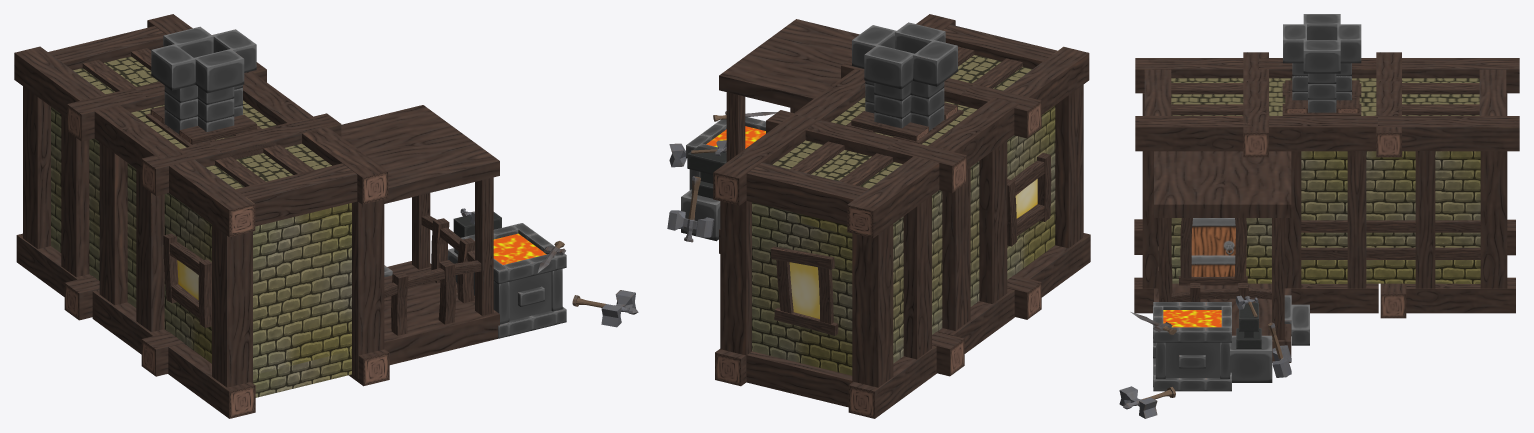
Rendered from Blacksmith.fbx.
The picture shows the model from 3 angles, left to right: view 1: azimuth 30°, elevation 25°; view 2: azimuth 150°, elevation 25°; view 3: azimuth 270°, elevation 25°; orthographic projection. The views are drawn at different scales.
Parts seen in each view (by area): view 1: Blacksmith, Forge, Lava, War Hammer 2; view 2: Blacksmith, Unlit, Forge, War Hammer 1, Anvil, Lava; view 3: Blacksmith, Forge, Lava, Anvil, War Hammer 2, War Hammer 1.
Boxes of the visible parts, x1,y1,x2,y2 form: Blacksmith: (14,14,499,418); Forge: (447,223,566,338); Lava: (493,233,546,264); War Hammer 2: (572,290,638,327); Blacksmith: (713,14,1090,418); Unlit: (789,179,1037,318); Forge: (681,117,765,241); War Hammer 1: (667,176,714,242); Anvil: (687,146,726,198); Lava: (706,126,765,148); Blacksmith: (1134,14,1519,362); Forge: (1153,302,1272,391); Lava: (1163,310,1221,327); Anvil: (1236,302,1261,348); War Hammer 2: (1119,386,1175,418); War Hammer 1: (1267,322,1291,377).
Size of the model in its own units: 17.26 by 10.68 by 15.74.
